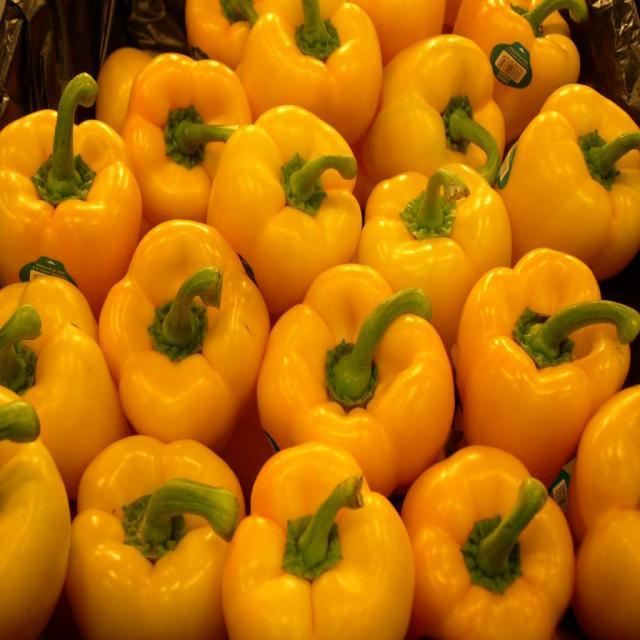Bell pepper: (0, 0, 639, 639), (453, 252, 628, 480)
